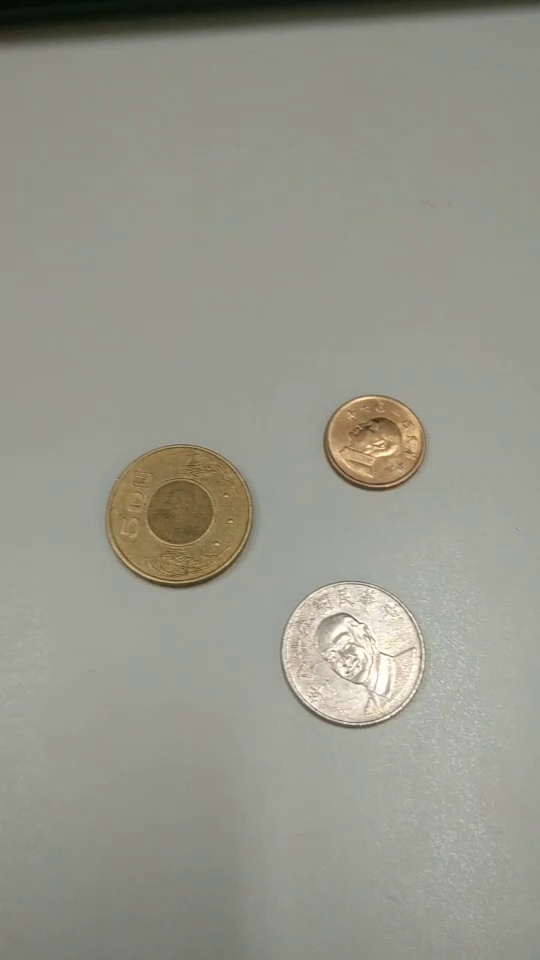NT$ 1: (323, 395, 429, 493)
NT$ 10: (278, 583, 428, 728)
NT$ 50: (103, 441, 257, 591)
